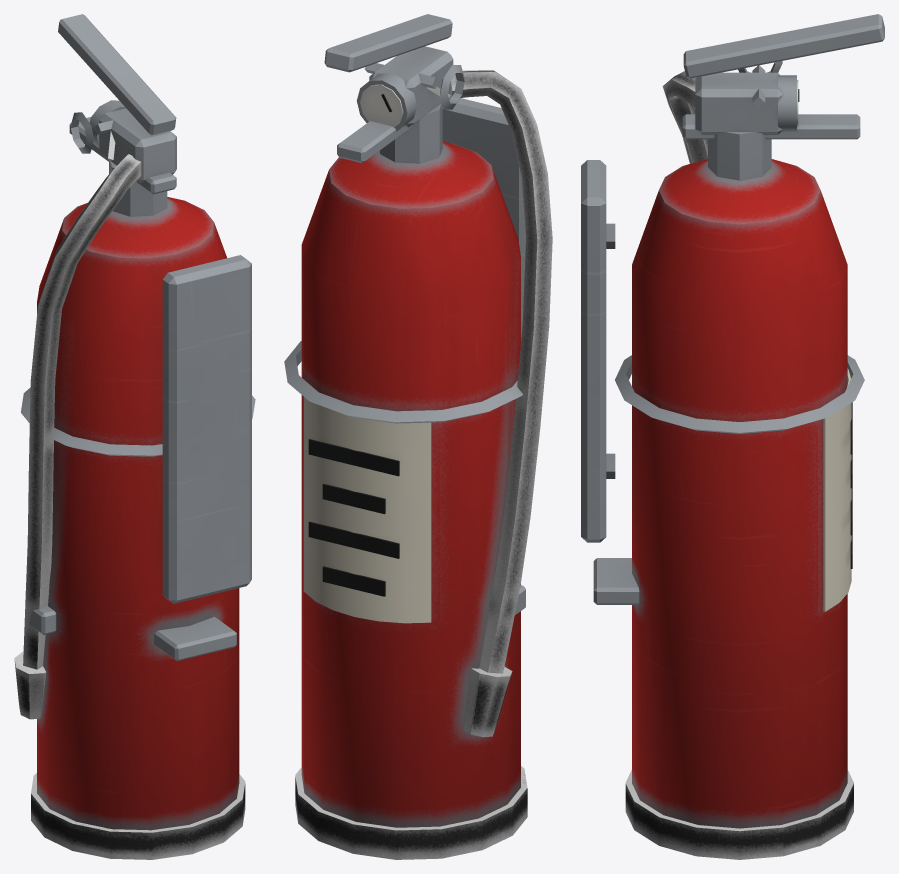
The model's file is extintor.fbx.
3 renders of one model, left to right at view 1: azimuth 30°, elevation 25°; view 2: azimuth 150°, elevation 25°; view 3: azimuth 270°, elevation 25°, orthographic. The views are drawn at different scales.
Parts seen in each view (by area): view 1: extintor; view 2: extintor; view 3: extintor.
Part boxes in pixels (bbox=[...]): extintor: bbox=[14, 14, 255, 859]; extintor: bbox=[284, 14, 552, 859]; extintor: bbox=[581, 14, 884, 859].
Bounding box in the file's own units: 0.4227 × 1.38 × 0.4786.
Materials: 1 (1 with a texture image).
